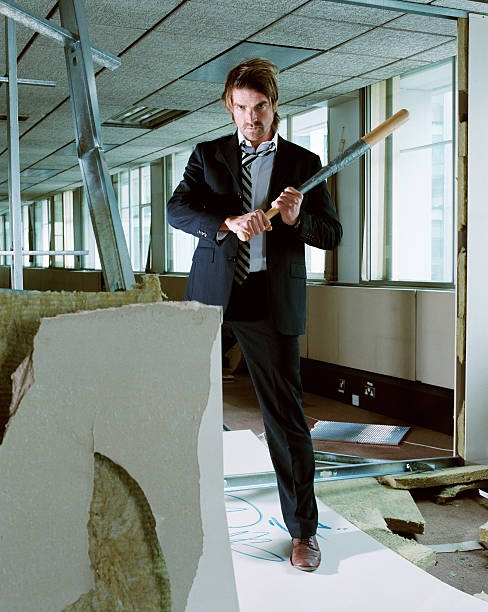bita: (231, 105, 413, 241)
